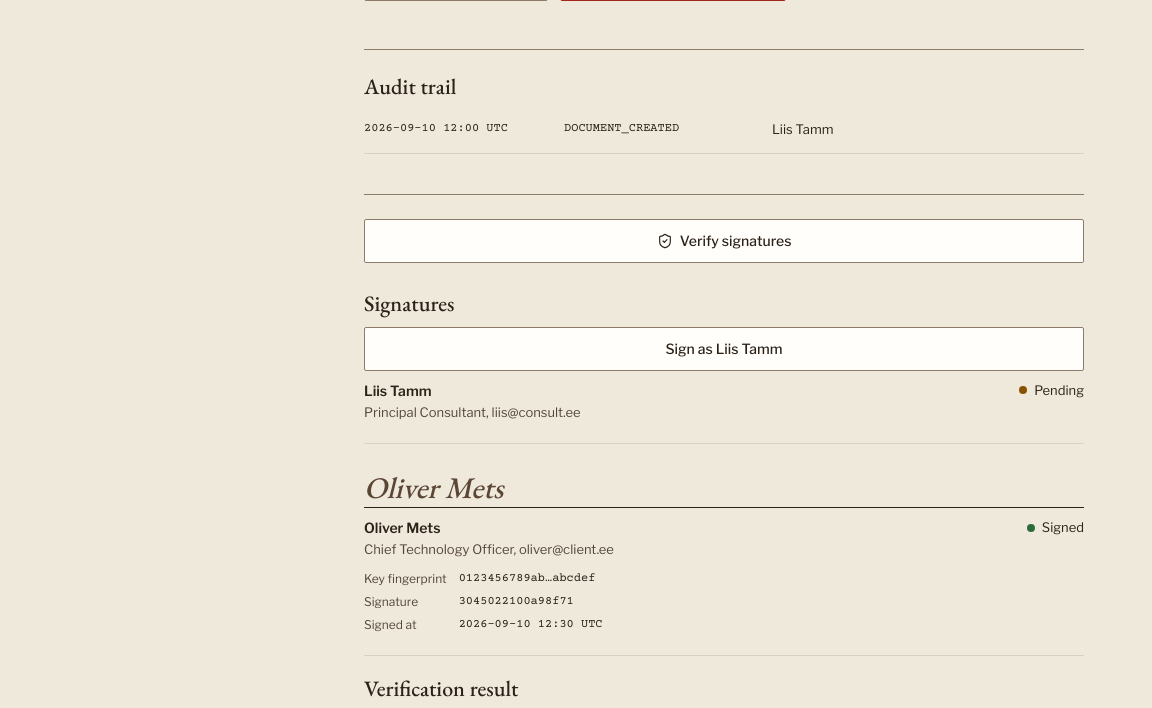
Test: DocuTrust dashboard › signs as a pending signer after confirming in the dialog
The width and height of the screenshot is (1152, 708).
(page scrolled)
Click the button "Sign as Liis Tamm": (724, 349) [364,327,1084,371]
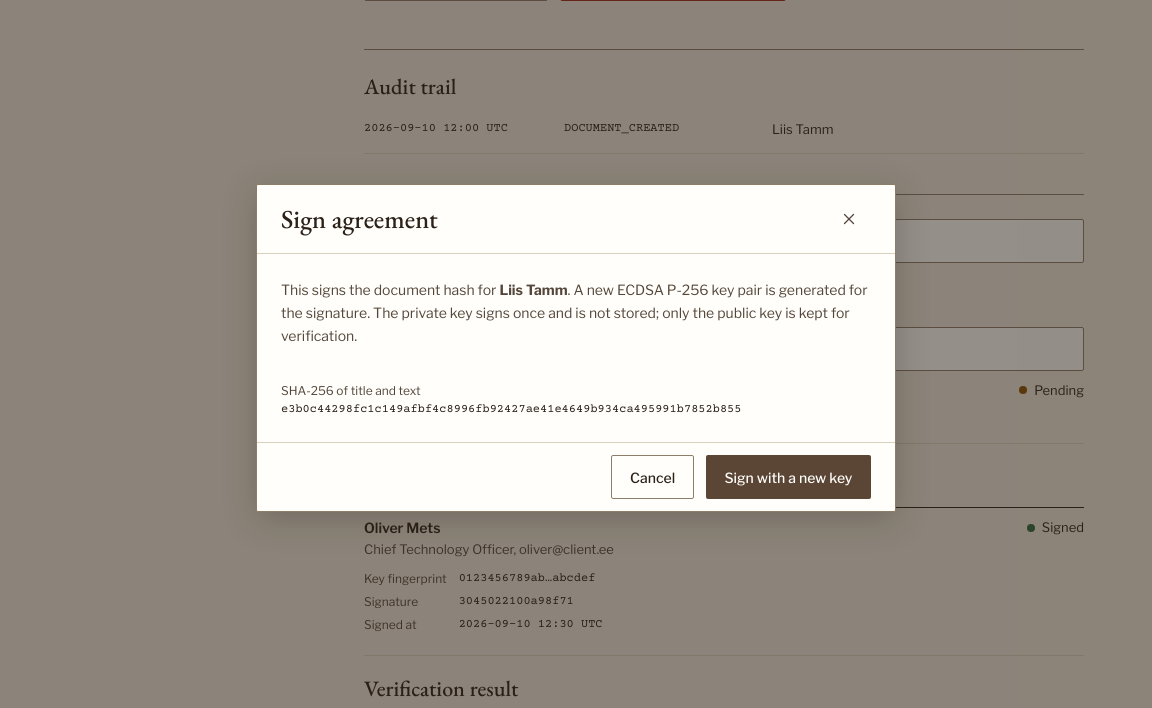
Now the text "e3b0c44298fc1c149afbf4c8996fb92427ae41e4649b934ca495991b7852b855" is shown, box [281,403,742,416]
Click the button "Sign with a new key": (788, 477) [706,455,871,499]
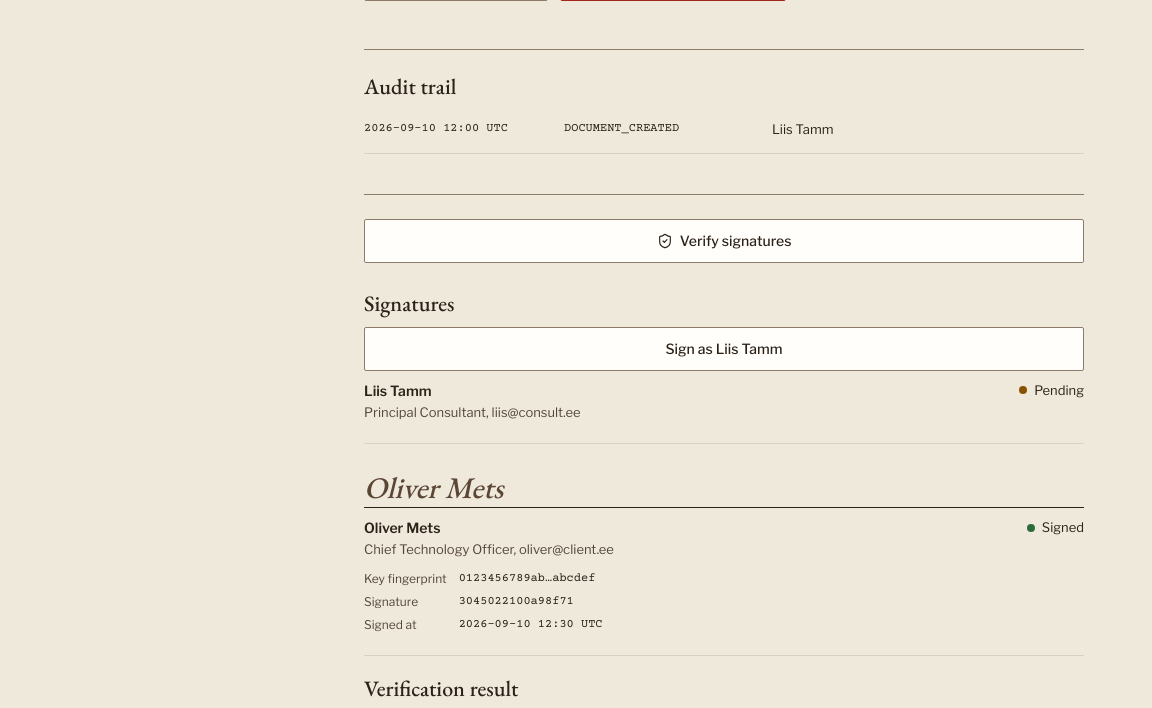
Now the dialog is gone
